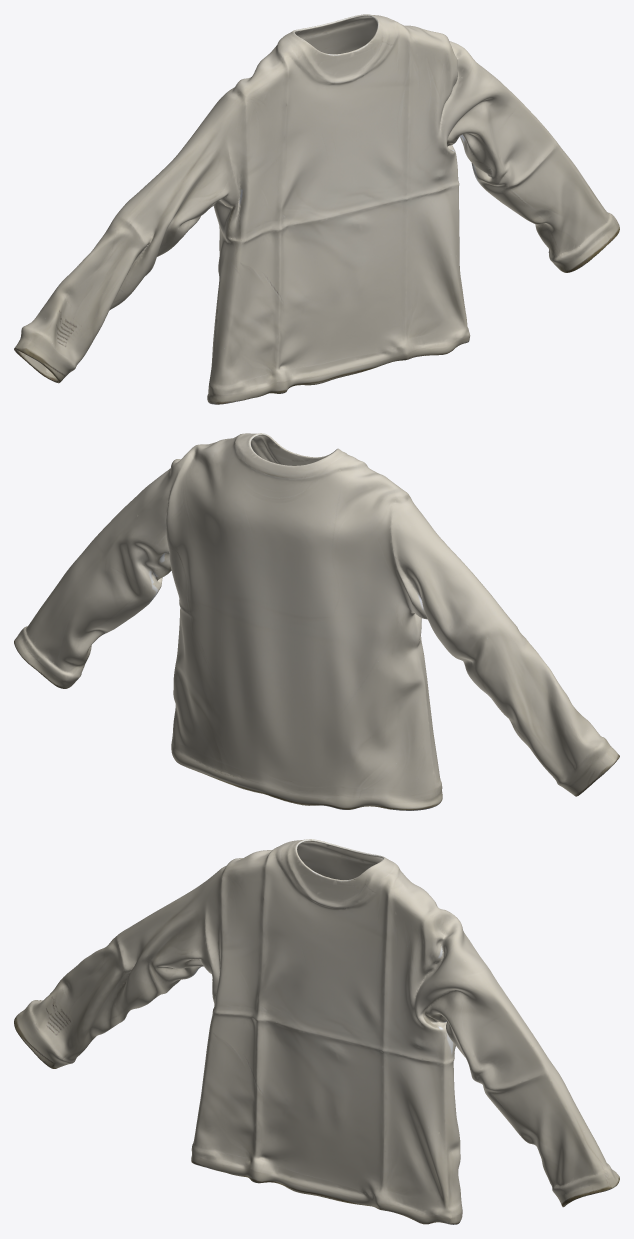
Rendered from longsleeve.glb.
The picture shows the model from 3 angles, top to bottom: view 1: azimuth 30°, elevation 25°; view 2: azimuth 150°, elevation 25°; view 3: azimuth 330°, elevation 25°; orthographic projection.
Size of the model in its own units: 1.9 by 1.04 by 0.2385.
1 material, 1 textured.
